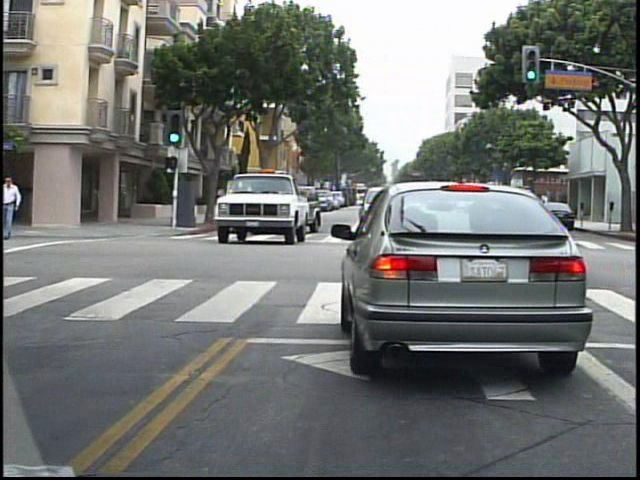person: (5, 172, 30, 243)
